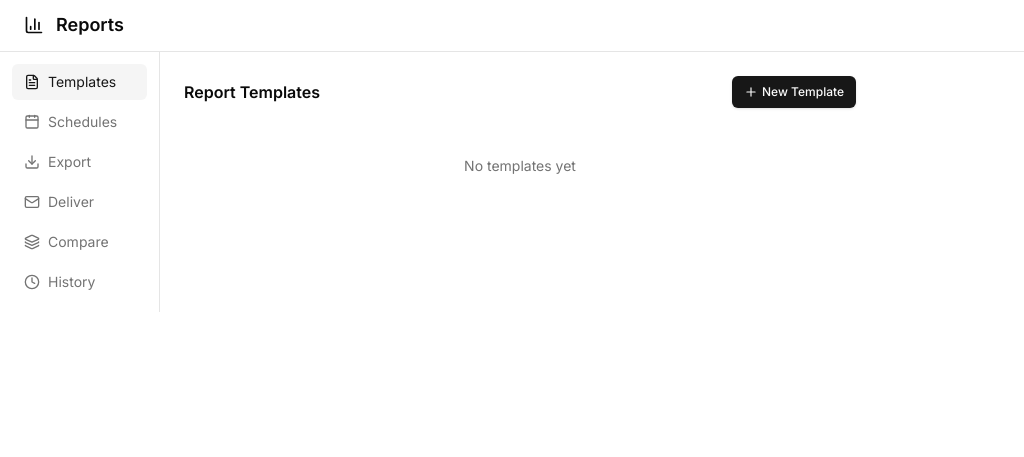
Test: ReportsPage › switches to export tab
Click the button "Export" at (80, 162), box [12,144,147,180]
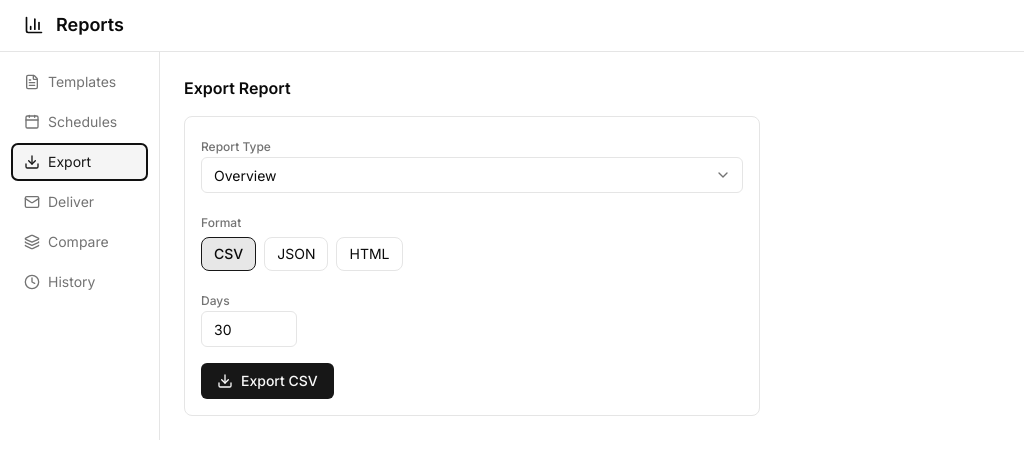
Expected: the heading "Export Report" is shown, [184,78,290,98]
